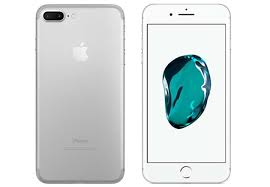iphone: (138, 2, 235, 185)
iphone7: (138, 2, 235, 185), (30, 2, 127, 185)
